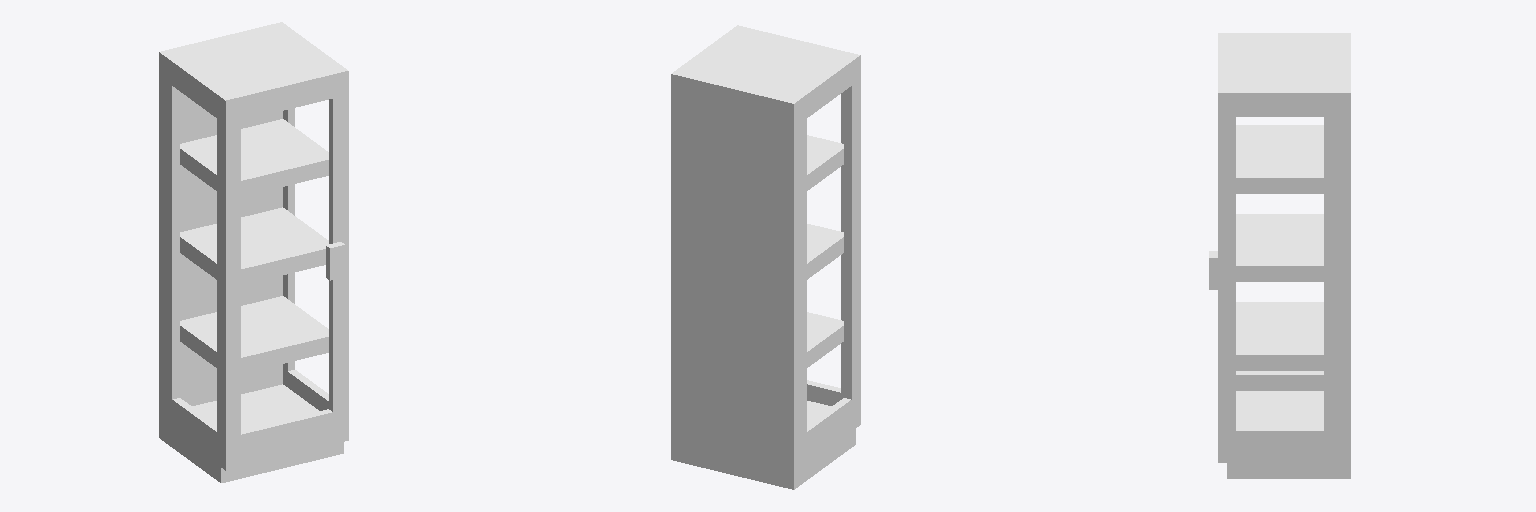
The model's file is fullEggsShelf4.obj.
3 renders of one model, left to right at view 1: azimuth 30°, elevation 25°; view 2: azimuth 150°, elevation 25°; view 3: azimuth 270°, elevation 25°, orthographic.
Visible parts, largest first — view 1: object 1; view 2: object 1; view 3: object 1.
Boxes of the visible parts, <box> form: object 1: <box>159,22,348,482</box>; object 1: <box>671,25,860,489</box>; object 1: <box>1209,33,1350,478</box>.
Bounding box in the file's own units: 1.6 × 4.8 × 1.6.